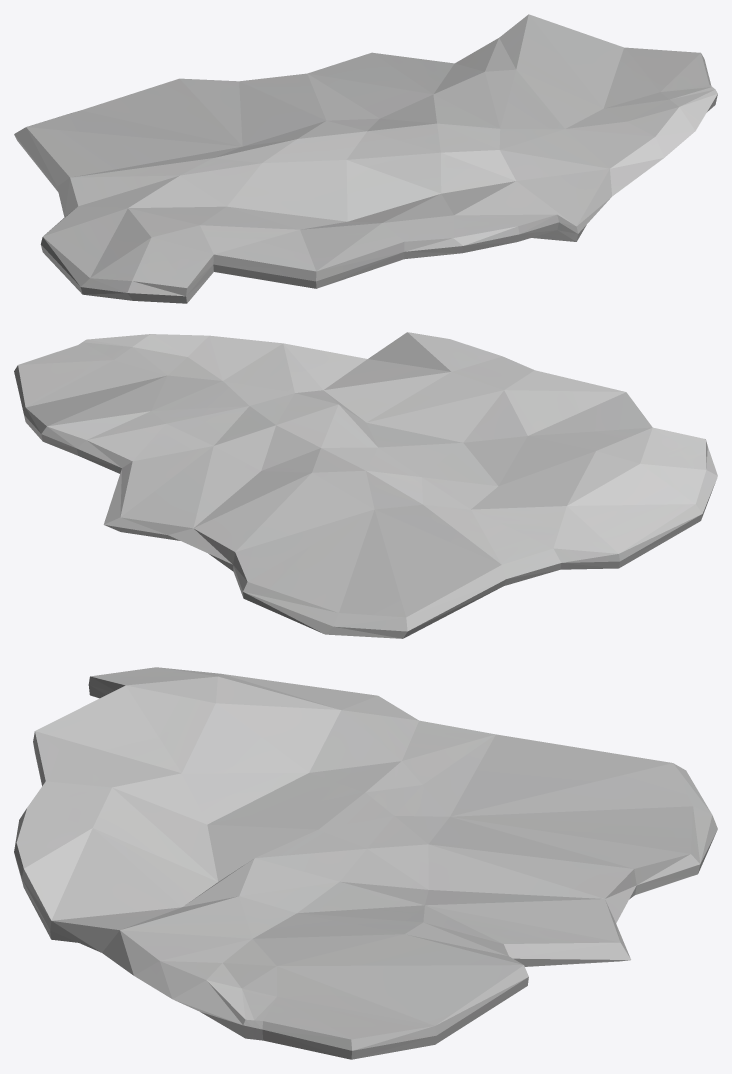
Rendered from rubble_2.obj.
3 renders of one model, top to bottom at view 1: azimuth 30°, elevation 25°; view 2: azimuth 150°, elevation 25°; view 3: azimuth 270°, elevation 25°, orthographic. The views are drawn at different scales.
Visible parts, largest first — view 1: rubble_2_Material; view 2: rubble_2_Material; view 3: rubble_2_Material.
Part boxes in pixels (x1,y1,x2,y2): rubble_2_Material: [14, 14, 717, 303]; rubble_2_Material: [14, 332, 717, 638]; rubble_2_Material: [14, 667, 717, 1059].
Size of the model in its own units: 2.86 by 0.2861 by 2.11.
